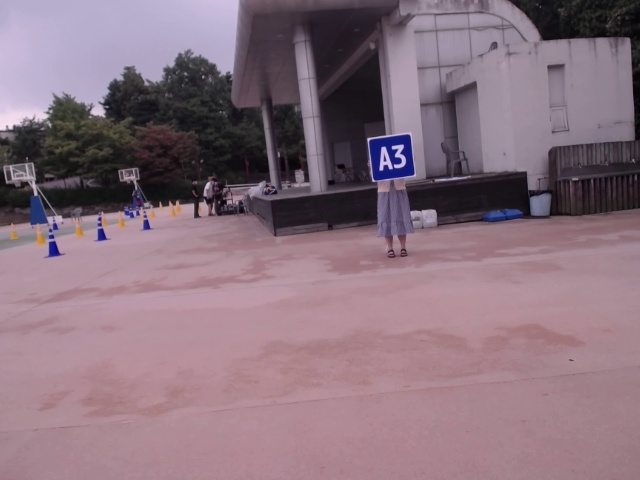delivery_a3: (367, 133, 416, 182)
